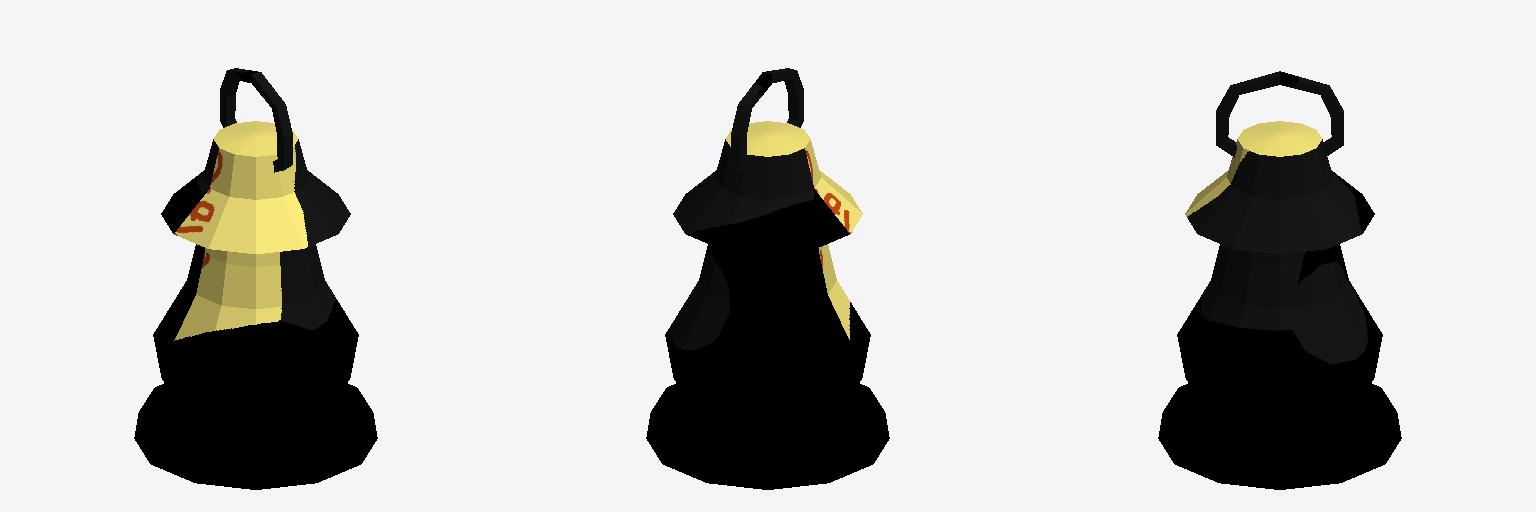
The picture shows the model from 3 angles: view 1: azimuth 30°, elevation 25°; view 2: azimuth 150°, elevation 25°; view 3: azimuth 270°, elevation 25°; orthographic projection.
Visible parts, largest first — view 1: Lamp_Cylinder.001; view 2: Lamp_Cylinder.001; view 3: Lamp_Cylinder.001.
Boxes of the visible parts, x1,y1,x2,y2 form: Lamp_Cylinder.001: [134, 68, 377, 489]; Lamp_Cylinder.001: [646, 68, 889, 489]; Lamp_Cylinder.001: [1158, 71, 1401, 489].
Size of the model in its own units: 2 by 3.31 by 2.
Materials: 1 (1 with a texture image).